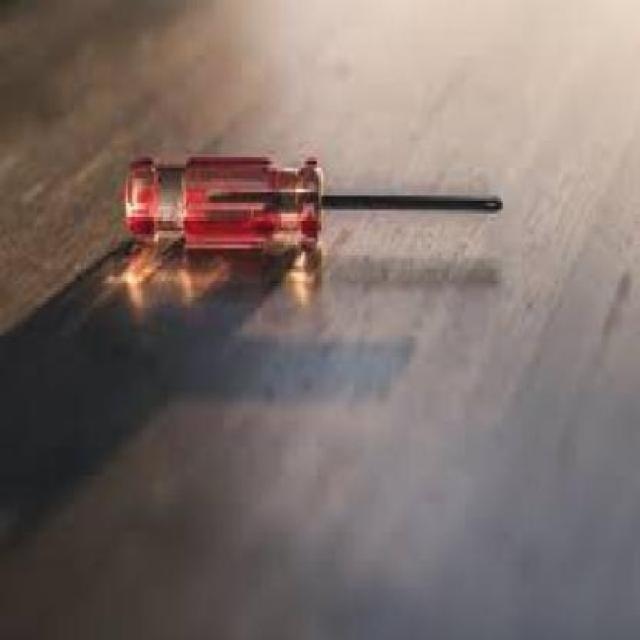screwdriver: (128, 160, 504, 248)
